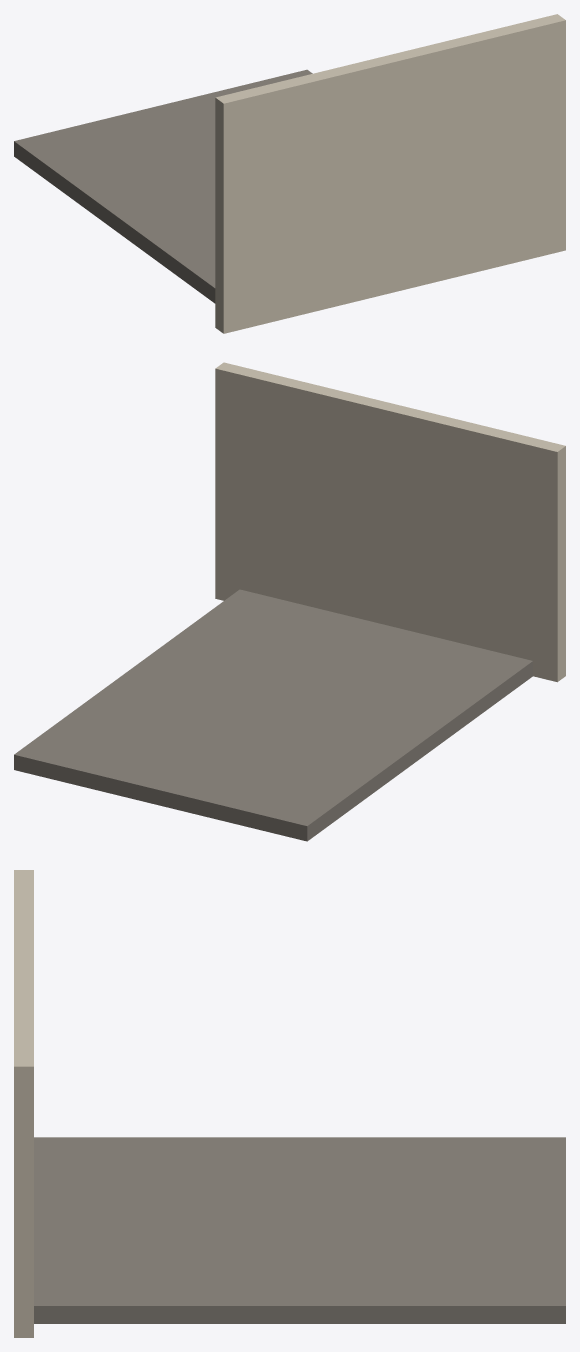
File: high_stairs_down.glb
3 views of the same model, one above another, from view 1: azimuth 30°, elevation 25°; view 2: azimuth 150°, elevation 25°; view 3: azimuth 270°, elevation 25° (orthographic). The views are drawn at different scales.
Visible parts, largest first — view 1: Box5, Box1, Box2, Box3, Box4; view 2: Box5, Box1, Box2, Box3, Box4; view 3: Box4, Box1, Box2, Box3, Box5.
Boxes of the visible parts, x1=… form: Box5: x1=215, y1=14, x2=565, y2=333; Box1: x1=14, y1=123, x2=215, y2=303; Box2: x1=87, y1=105, x2=215, y2=216; Box3: x1=161, y1=87, x2=238, y2=144; Box4: x1=234, y1=69, x2=312, y2=91; Box5: x1=215, y1=362, x2=565, y2=682; Box1: x1=234, y1=643, x2=532, y2=841; Box2: x1=160, y1=625, x2=459, y2=823; Box3: x1=87, y1=607, x2=385, y2=805; Box4: x1=14, y1=589, x2=312, y2=787; Box4: x1=34, y1=1263, x2=565, y2=1323; Box1: x1=34, y1=1137, x2=565, y2=1179; Box2: x1=34, y1=1179, x2=565, y2=1221; Box3: x1=34, y1=1221, x2=565, y2=1263; Box5: x1=14, y1=870, x2=33, y2=1337.
Size of the model in its own units: 1.4 by 0.9 by 1.66.
